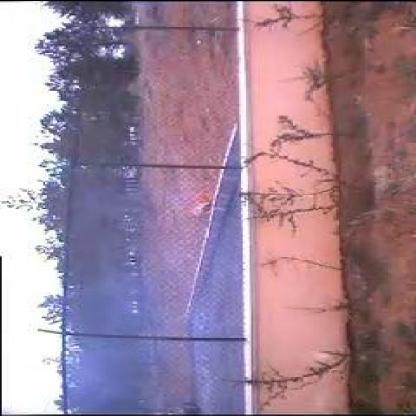-: (61, 218, 239, 376)
